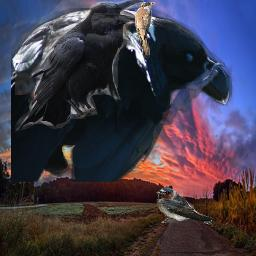Crow: (11, 8, 234, 182), (15, 0, 144, 133)
Cuckoo: (135, 2, 155, 58)
Swallow: (155, 187, 213, 225)
